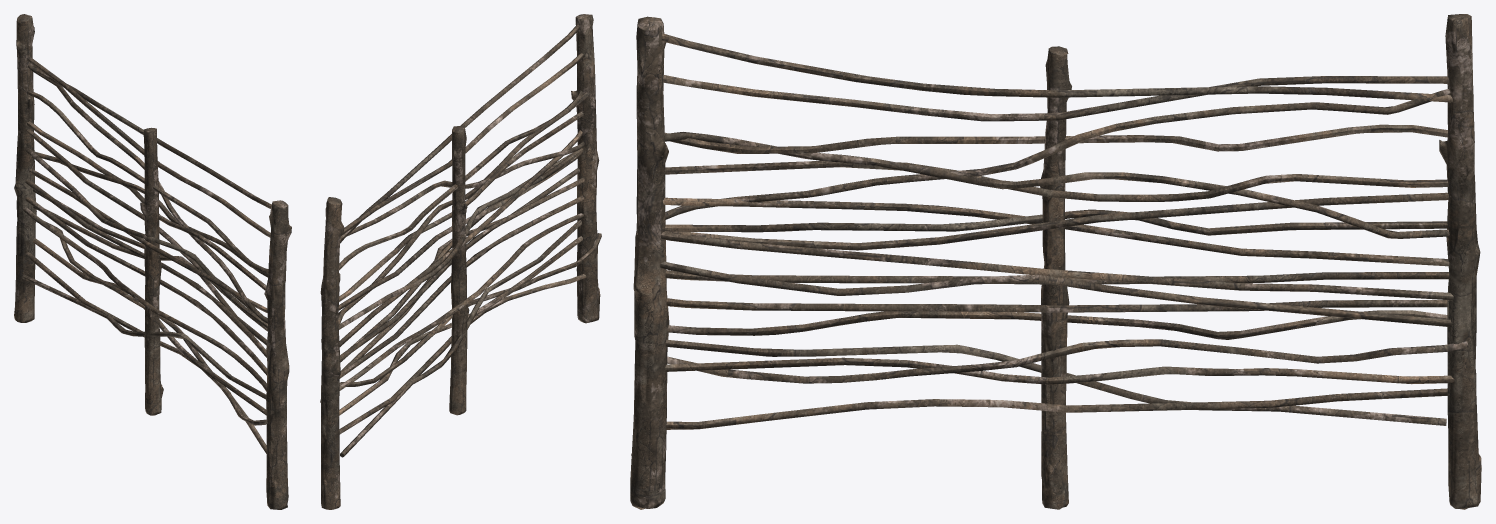
Rendered from SM_Fence_02a.fbx.
3 views of the same model, side by side, from view 1: azimuth 30°, elevation 25°; view 2: azimuth 150°, elevation 25°; view 3: azimuth 270°, elevation 25° (orthographic). The views are drawn at different scales.
Visible parts, largest first — view 1: SM_Fence_02a_LOD0; view 2: SM_Fence_02a_LOD0; view 3: SM_Fence_02a_LOD0.
Boxes of the visible parts, bbox=[...] form: SM_Fence_02a_LOD0: bbox=[14, 14, 291, 509]; SM_Fence_02a_LOD0: bbox=[320, 14, 601, 509]; SM_Fence_02a_LOD0: bbox=[630, 14, 1481, 509].
Bounding box in the file's own units: 20.21 × 210 × 134.
2 materials, 2 textured.
